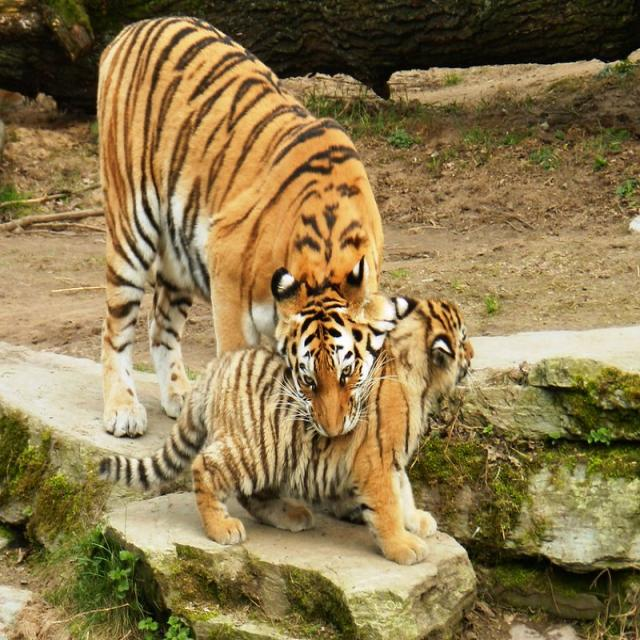Tiger: (82, 5, 393, 488), (120, 288, 482, 570)
